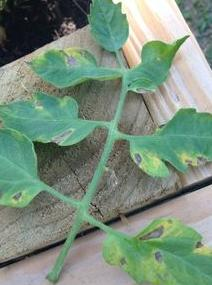Tomato Early blight leaf: (104, 217, 212, 285), (126, 112, 212, 178), (0, 91, 100, 147), (126, 26, 194, 98), (21, 49, 116, 88)
Tomato leaf: (86, 0, 133, 52)
